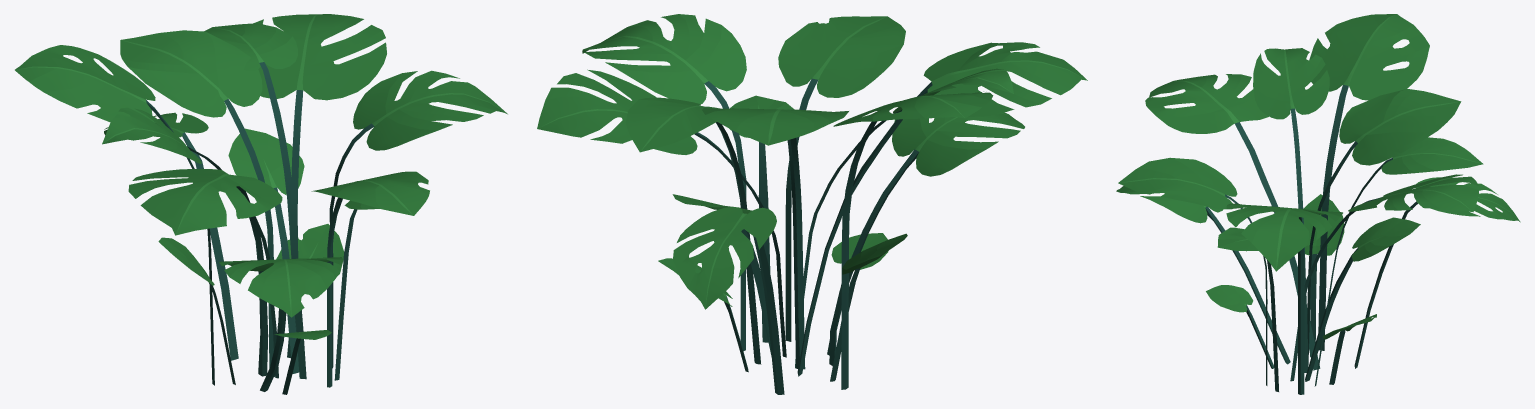
The model's file is plant_monstera_A_wild.fbx.
3 renders of one model, left to right at view 1: azimuth 30°, elevation 25°; view 2: azimuth 150°, elevation 25°; view 3: azimuth 270°, elevation 25°, orthographic. The views are drawn at different scales.
Parts seen in each view (by area): view 1: plant_monstera_leaf_A_04, plant_monstera_leaf_A_03, plant_monstera_leaf_A_06, plant_monstera_leaf_A_02, plant_monstera_leaf_A_08, plant_monstera_leaf_A_09, plant_monstera_leaf_A_11, plant_monstera_leaf_A_07, plant_monstera_leaf_A_13, plant_monstera_leaf_A_10, plant_monstera_leaf_A_05, plant_monstera_leaf_A_14 (+3 smaller); view 2: plant_monstera_leaf_A_06, plant_monstera_leaf_A_11, plant_monstera_leaf_A_02, plant_monstera_leaf_A_05, plant_monstera_leaf_A_03, plant_monstera_leaf_A_09, plant_monstera_leaf_A_04, plant_monstera_leaf_A_07, plant_monstera_leaf_A_08, plant_monstera_leaf_A_10, plant_monstera_leaf_A_12, plant_monstera_leaf_A_01 (+3 smaller); view 3: plant_monstera_leaf_A_08, plant_monstera_leaf_A_04, plant_monstera_leaf_A_02, plant_monstera_leaf_A_10, plant_monstera_leaf_A_06, plant_monstera_leaf_A_11, plant_monstera_leaf_A_03, plant_monstera_leaf_A_07, plant_monstera_leaf_A_13, plant_monstera_leaf_A_05, plant_monstera_leaf_A_09, plant_monstera_leaf_A_01 (+3 smaller).
Part boxes in pixels (<box>): plant_monstera_leaf_A_04: <box>120,30,274,376</box>; plant_monstera_leaf_A_03: <box>253,14,386,379</box>; plant_monstera_leaf_A_06: <box>329,70,507,368</box>; plant_monstera_leaf_A_02: <box>128,169,282,376</box>; plant_monstera_leaf_A_08: <box>15,45,214,385</box>; plant_monstera_leaf_A_09: <box>219,257,343,391</box>; plant_monstera_leaf_A_11: <box>311,171,429,387</box>; plant_monstera_leaf_A_07: <box>204,23,297,331</box>; plant_monstera_leaf_A_13: <box>228,128,304,373</box>; plant_monstera_leaf_A_10: <box>102,107,278,378</box>; plant_monstera_leaf_A_05: <box>104,112,238,360</box>; plant_monstera_leaf_A_14: <box>276,224,343,358</box>; plant_monstera_leaf_A_06: <box>582,14,746,351</box>; plant_monstera_leaf_A_11: <box>778,16,905,341</box>; plant_monstera_leaf_A_02: <box>797,42,1087,376</box>; plant_monstera_leaf_A_05: <box>673,206,784,394</box>; plant_monstera_leaf_A_03: <box>537,69,786,357</box>; plant_monstera_leaf_A_09: <box>829,112,1024,365</box>; plant_monstera_leaf_A_04: <box>702,108,848,369</box>; plant_monstera_leaf_A_07: <box>625,97,761,364</box>; plant_monstera_leaf_A_08: <box>833,91,993,389</box>; plant_monstera_leaf_A_10: <box>795,68,1013,368</box>; plant_monstera_leaf_A_12: <box>729,95,794,342</box>; plant_monstera_leaf_A_01: <box>830,233,907,381</box>; plant_monstera_leaf_A_08: <box>1309,14,1429,350</box>; plant_monstera_leaf_A_04: <box>1307,89,1461,365</box>; plant_monstera_leaf_A_02: <box>1145,74,1320,370</box>; plant_monstera_leaf_A_10: <box>1253,48,1329,372</box>; plant_monstera_leaf_A_06: <box>1226,203,1342,394</box>; plant_monstera_leaf_A_11: <box>1118,157,1267,385</box>; plant_monstera_leaf_A_03: <box>1290,174,1478,381</box>; plant_monstera_leaf_A_07: <box>1314,137,1483,386</box>; plant_monstera_leaf_A_13: <box>1305,217,1420,381</box>; plant_monstera_leaf_A_05: <box>1354,177,1520,368</box>; plant_monstera_leaf_A_09: <box>1116,186,1290,364</box>; plant_monstera_leaf_A_01: <box>1303,194,1344,356</box>.
Bounding box in the file's own units: 299 × 217 × 290.
